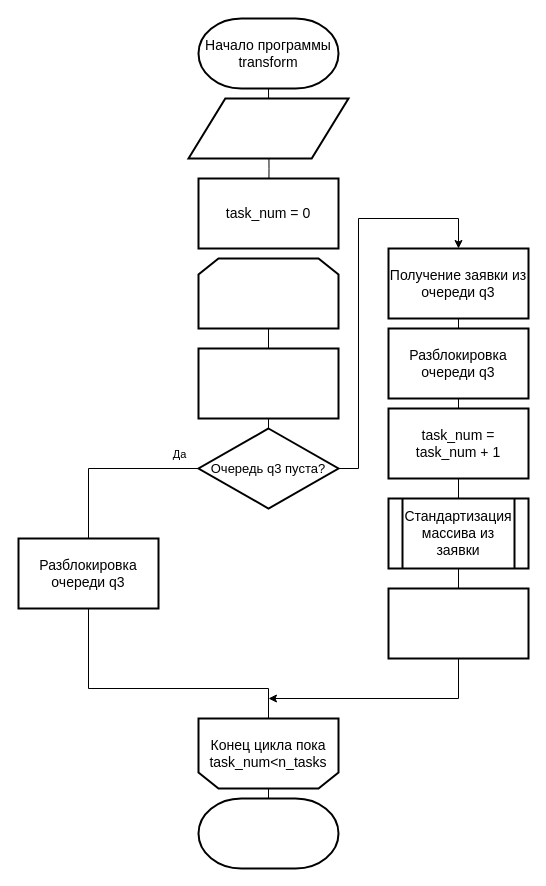
Image size: 546x886. Some labels were removed from this diagram. The shapes that lost their labels are listed below. From the top down, each one's centre as x and y in pixels, then its label:
At point (268, 128): "n_tasks".
At point (268, 293): "Цикл пока task_num<n_tasks".
At point (268, 383): "Блокировка очереди q3".
At point (458, 623): "Помещение заявки в пул обработанных заявок".
At point (268, 833): "Конец программы transform".
